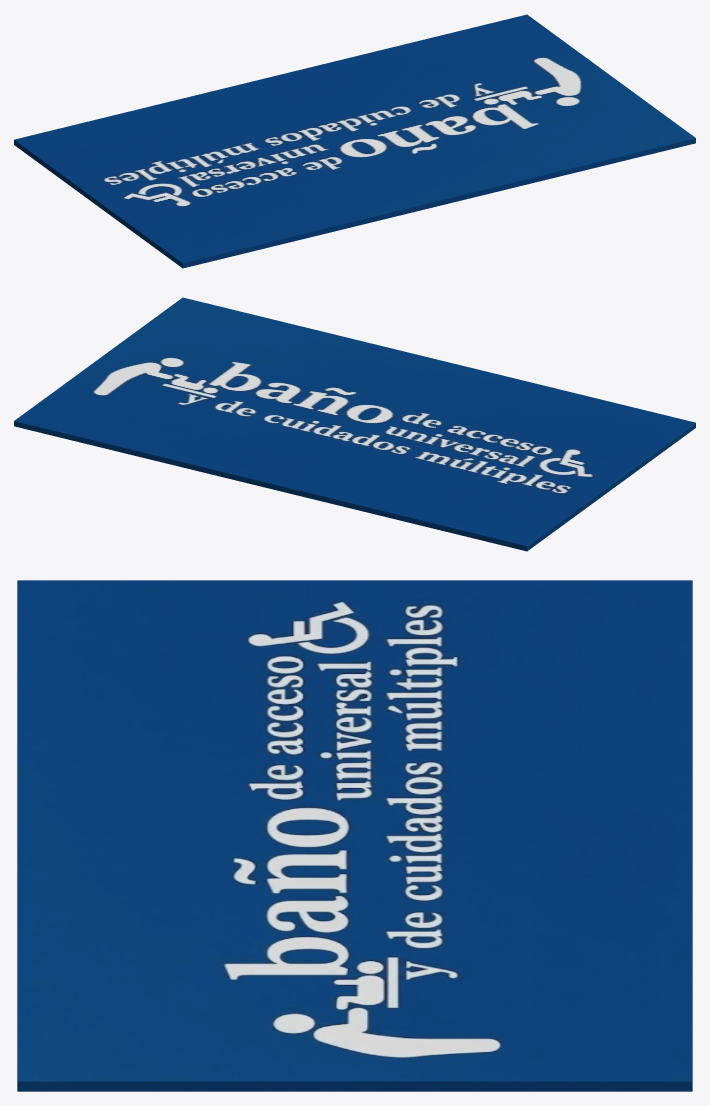
Rendered from modelo_cartel_baño.obj.
The picture shows the model from 3 angles, top to bottom: view 1: azimuth 30°, elevation 25°; view 2: azimuth 150°, elevation 25°; view 3: azimuth 270°, elevation 25°; orthographic projection. The views are drawn at different scales.
Parts seen in each view (by area): view 1: modelo_cartel_azul; view 2: modelo_cartel_azul; view 3: modelo_cartel_azul.
Part boxes in pixels (x1=…): modelo_cartel_azul: x1=14, y1=14, x2=695, y2=268; modelo_cartel_azul: x1=14, y1=297, x2=695, y2=551; modelo_cartel_azul: x1=17, y1=580, x2=692, y2=1091.
Size of the model in its own units: 0.3346 by 0.00339 by 0.1905.
Materials: 1 (1 with a texture image).
